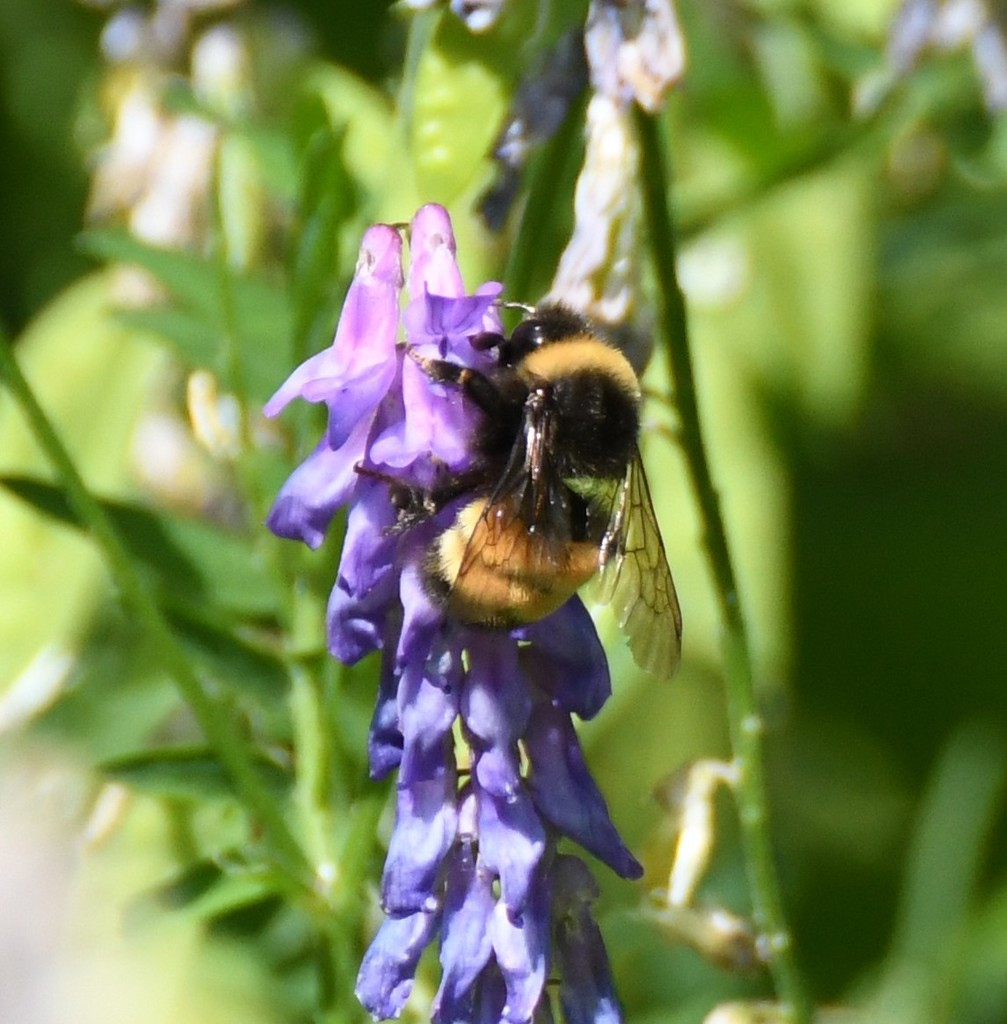bumblebee: (354, 299, 686, 678)
